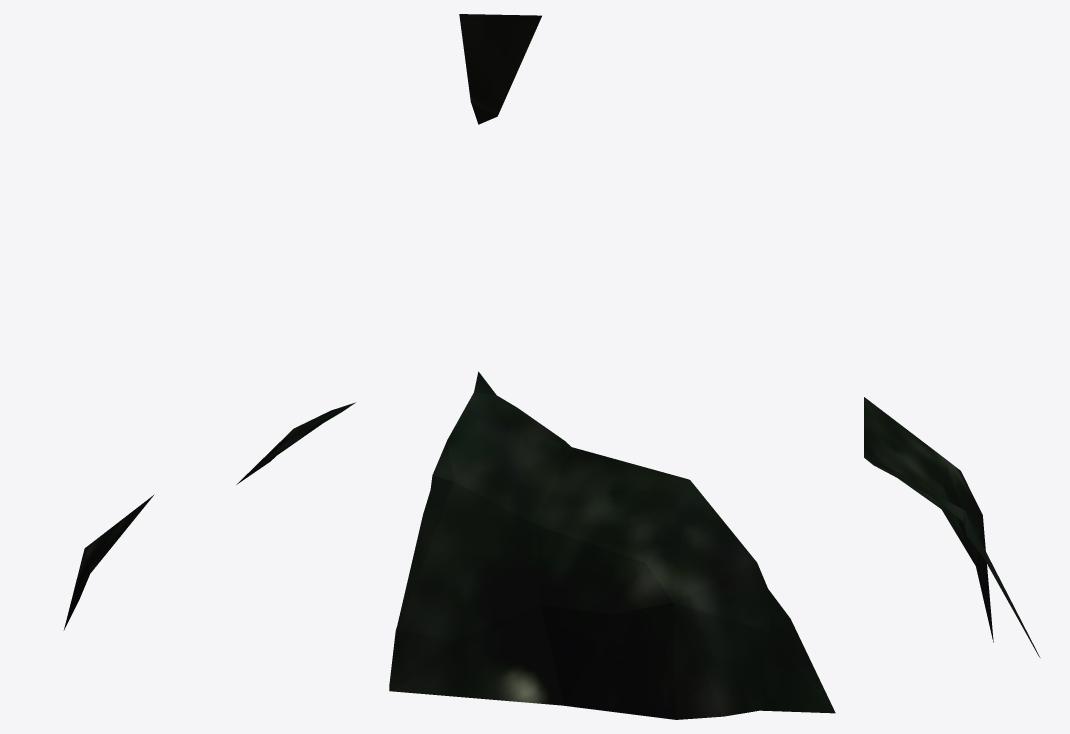
3 renders of one model, left to right at view 1: azimuth 30°, elevation 25°; view 2: azimuth 150°, elevation 25°; view 3: azimuth 270°, elevation 25°, orthographic. The views are drawn at different scales.
Size of the model in its own units: 0.5003 by 0.8374 by 0.2164.
1 material, 1 textured.
